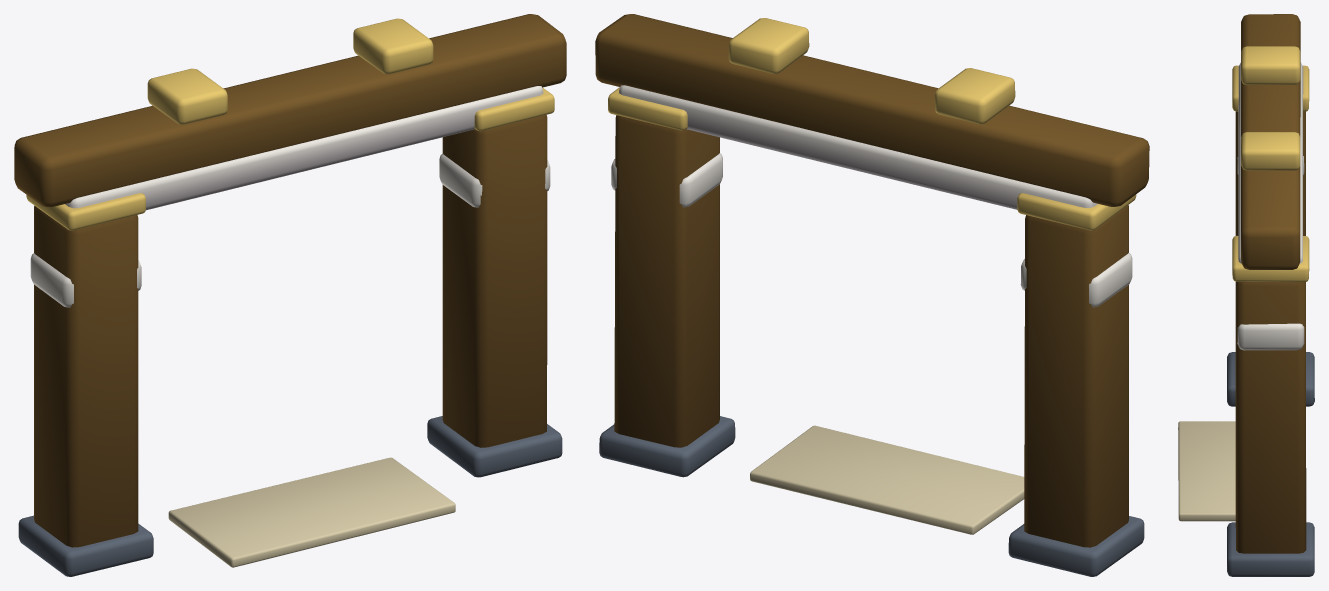
The picture shows the model from 3 angles, left to right: view 1: azimuth 30°, elevation 25°; view 2: azimuth 150°, elevation 25°; view 3: azimuth 270°, elevation 25°; orthographic projection. The views are drawn at different scales.
Visible parts, largest first — view 1: gate_f917f853; view 2: gate_f917f853; view 3: gate_f917f853.
Boxes of the visible parts, box(x1,y1,x2,y2) form: gate_f917f853: box(14, 14, 566, 576); gate_f917f853: box(595, 14, 1149, 576); gate_f917f853: box(1178, 14, 1314, 576).
Size of the model in its own units: 5.63 by 4.53 by 1.48.
